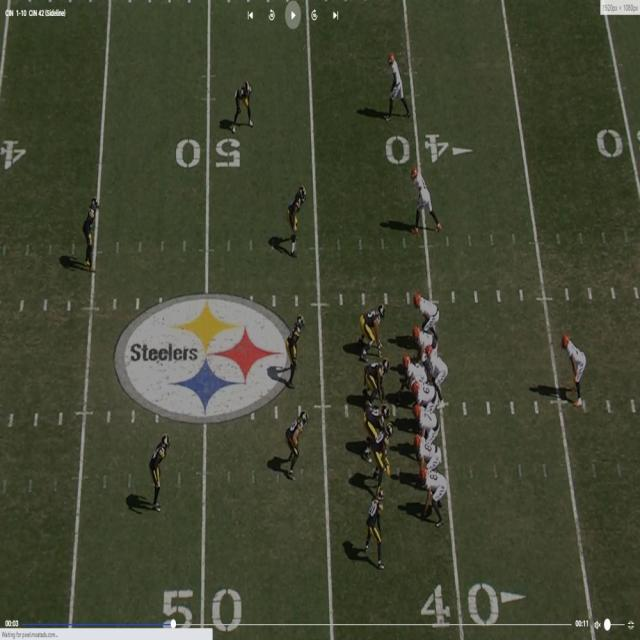center: (400, 358, 422, 401)
db: (150, 434, 171, 513), (370, 487, 386, 568), (84, 196, 101, 272), (234, 76, 254, 131)
lb: (370, 424, 392, 487), (287, 187, 306, 257), (289, 412, 305, 477), (290, 321, 304, 377)
qb: (425, 344, 449, 394)
skill: (387, 54, 410, 123), (423, 468, 449, 524), (411, 168, 434, 228), (565, 335, 583, 404), (418, 439, 443, 469)
